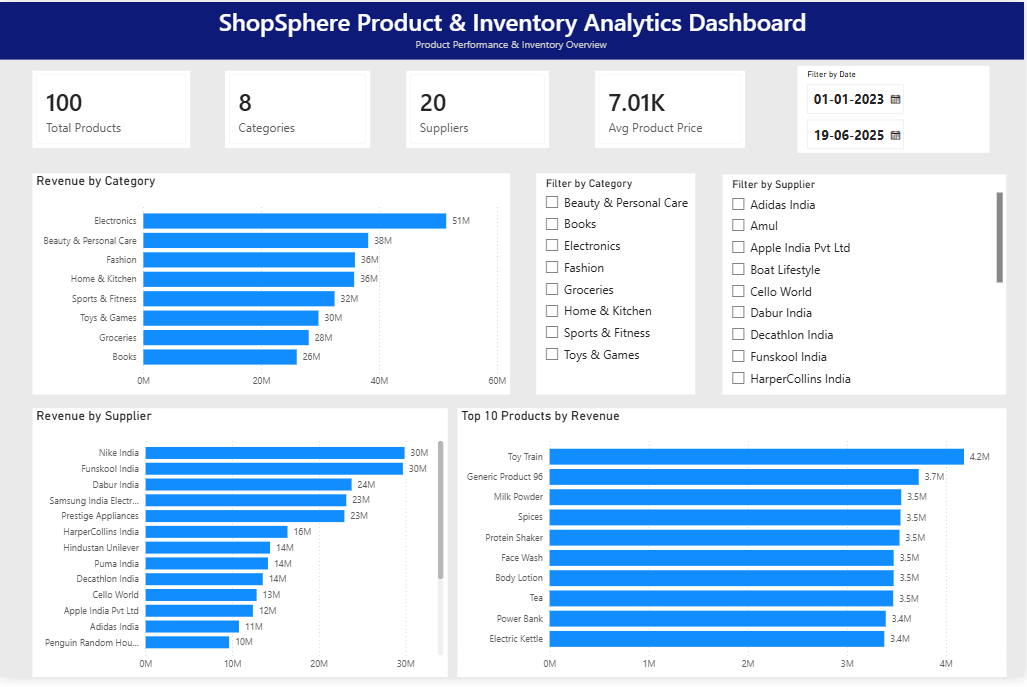

This screenshot's page, from the dashboard's own definition file:
{"tool":"powerbi","page":{"name":"Product & Inventory Analytics","canvas":[1366,900],"ordinal":4},"visuals":[{"type":"barChart","title":"Top 10 Products by Revenue","fields":{"Category":["Products.product_name"],"Y":["Order_Items.Total Revenue"]},"box":[610,541.7,731.7,358.3],"z":0},{"type":"textbox","box":[0,0,1366.7,76.7],"z":1000},{"type":"barChart","title":"Revenue by Category","fields":{"Category":["Categories.category_name"],"Y":["Order_Items.Total Revenue"]},"box":[43.3,228.3,636.7,295],"z":2000},{"type":"cardVisual","fields":{"Data":["Categories.Total Products"]},"box":[43.3,91.7,210,103.3],"z":3000},{"type":"cardVisual","fields":{"Data":["Categories.Total Categories"]},"box":[300,91.7,193.3,103.3],"z":4000},{"type":"cardVisual","fields":{"Data":["Categories.Total Suppliers"]},"box":[541.7,91.7,190,103.3],"z":5000},{"type":"cardVisual","fields":{"Data":["Categories.Average Product Price"]},"box":[793.3,91.7,200,103.3],"z":6000},{"type":"barChart","title":"Revenue by Supplier","fields":{"Y":["Order_Items.Total Revenue"],"Category":["Suppliers.supplier_name"]},"box":[43.3,541.7,553.3,358.3],"z":7000},{"type":"slicer","fields":{"Values":["Categories.category_name"]},"box":[715,228.3,211.7,295],"z":8000},{"type":"slicer","fields":{"Values":["Orders.order_date"]},"box":[1063.3,85,255,115],"z":9000},{"type":"slicer","fields":{"Values":["Suppliers.supplier_name"]},"box":[963.3,230,378.3,293.3],"z":10000}]}

Visuals, with their boxes in screenshot pixels (x1, y1, x2, y2), scaled from the page's 1366x900 canvas onto the 1027x687 screenshot:
"Top 10 Products by Revenue" barChart: select_region(459, 413, 1009, 686)
textbox: select_region(0, 0, 1026, 59)
"Revenue by Category" barChart: select_region(33, 174, 511, 399)
cardVisual - Categories.Total Products: select_region(33, 70, 190, 149)
cardVisual - Categories.Total Categories: select_region(226, 70, 371, 149)
cardVisual - Categories.Total Suppliers: select_region(407, 70, 550, 149)
cardVisual - Categories.Average Product Price: select_region(596, 70, 747, 149)
"Revenue by Supplier" barChart: select_region(33, 413, 449, 686)
slicer - Categories.category_name: select_region(538, 174, 697, 399)
slicer - Orders.order_date: select_region(799, 65, 991, 153)
slicer - Suppliers.supplier_name: select_region(724, 176, 1009, 399)
